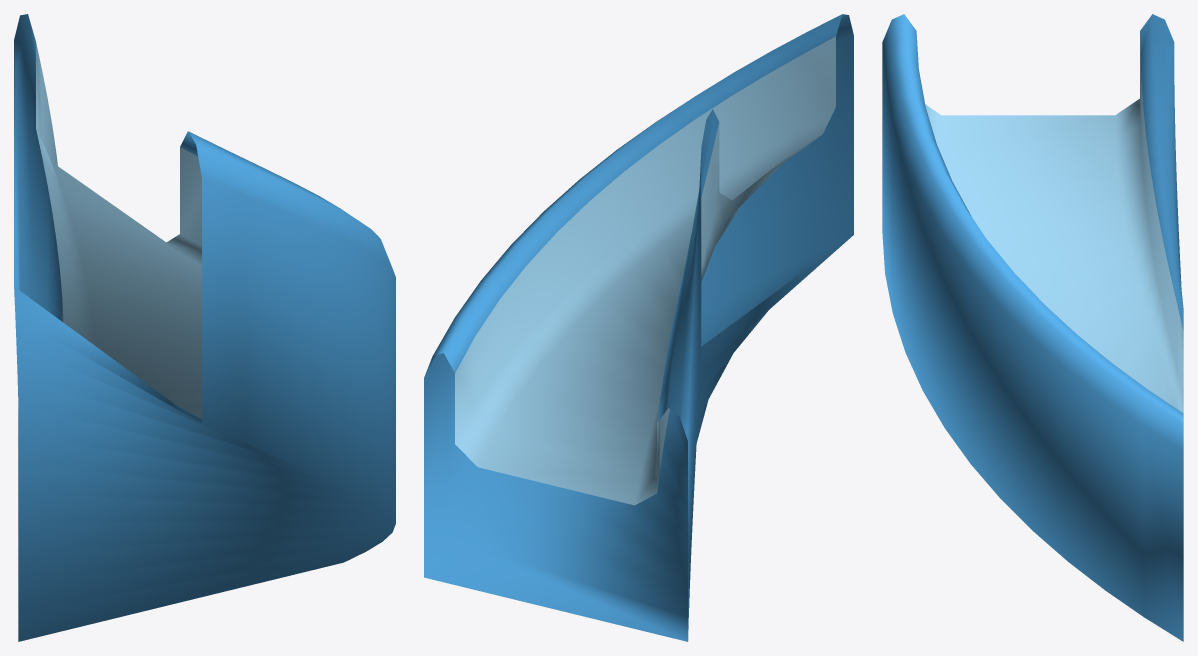
File: slide_turn_b.gltf
3 views of the same model, side by side, from view 1: azimuth 30°, elevation 25°; view 2: azimuth 150°, elevation 25°; view 3: azimuth 270°, elevation 25° (orthographic). The views are drawn at different scales.
Visible parts, largest first — view 1: slide_turn_b; view 2: slide_turn_b; view 3: slide_turn_b.
Boxes of the visible parts, x1,y1,x2,y2 form: slide_turn_b: [14, 14, 395, 641]; slide_turn_b: [424, 14, 853, 641]; slide_turn_b: [882, 14, 1183, 641].
Bounding box in the file's own units: 0.97 × 1.78 × 0.97.
